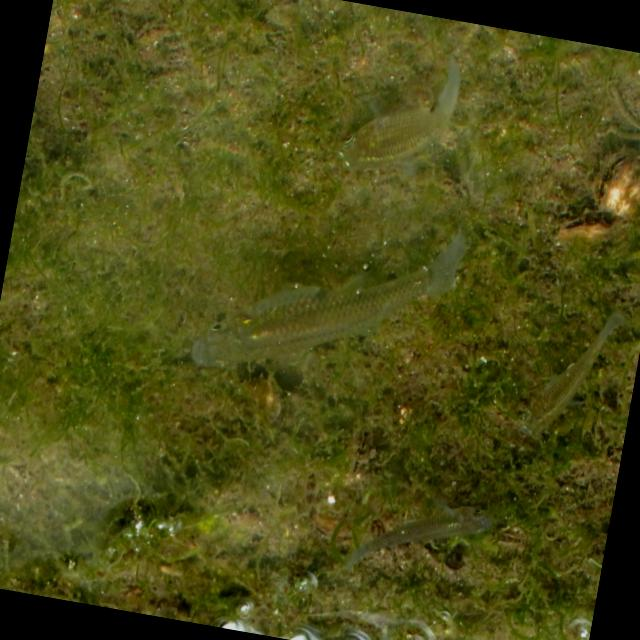Sivrisinek Baligi: (190, 196, 471, 412), (334, 43, 487, 195), (340, 479, 520, 600), (514, 288, 628, 458)
